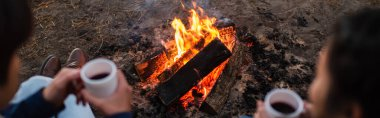fire: (165, 10, 226, 57)
